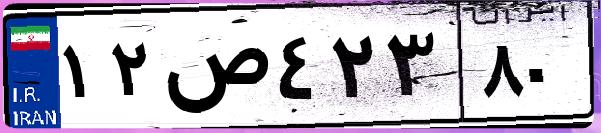0: (525, 38, 570, 115)
1: (57, 26, 110, 100)
2: (330, 28, 385, 110), (110, 28, 158, 98)
3: (385, 28, 445, 110)
4: (270, 28, 330, 110)
8: (475, 38, 525, 113)
ص: (158, 20, 270, 120)
